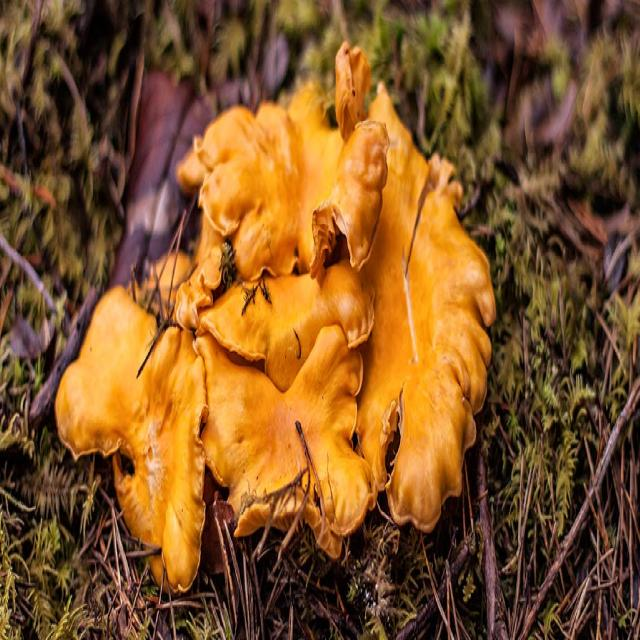chanterelle: (358, 139, 498, 534), (54, 288, 207, 595), (177, 46, 371, 280)
